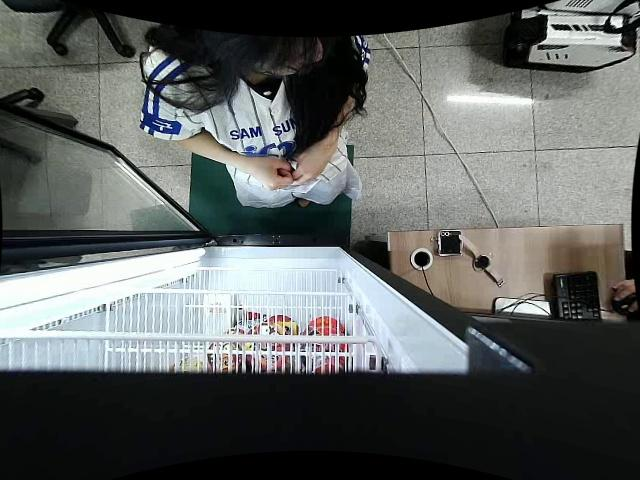00_hand: (243, 153, 293, 192), (293, 148, 331, 188)
